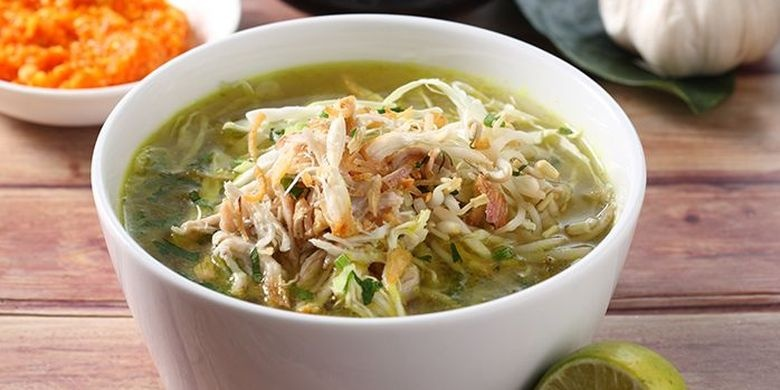soto: (116, 69, 576, 303)
